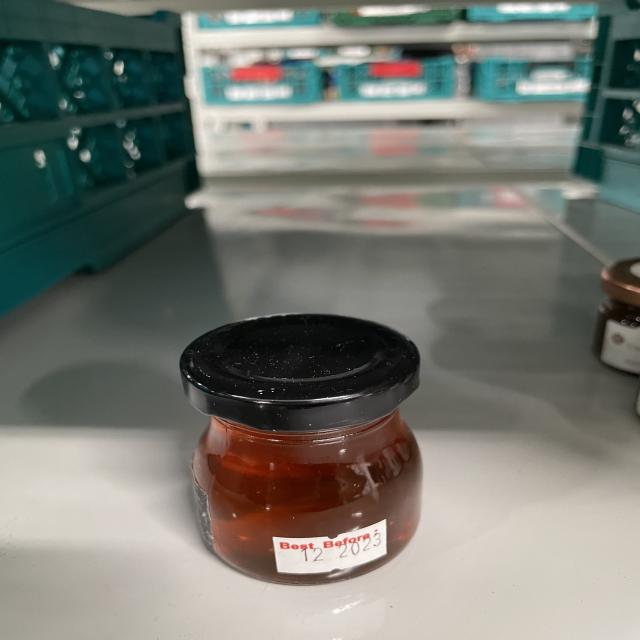object_name: (177, 312, 428, 583)
